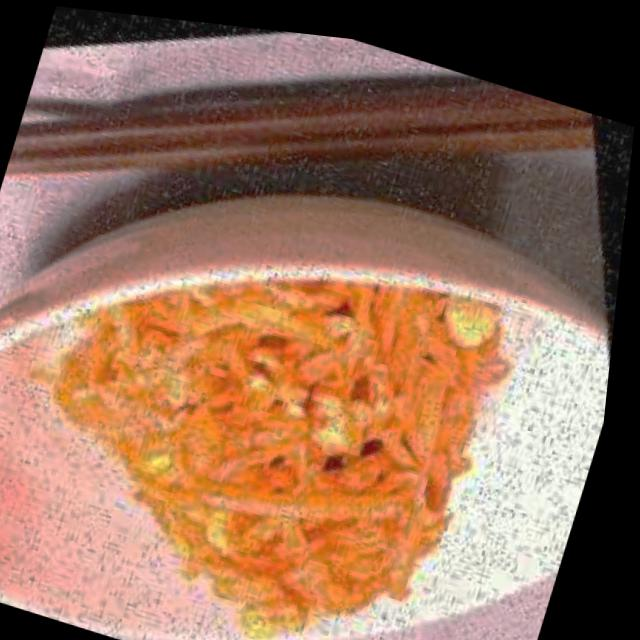carrot_eggs: (0, 172, 536, 640)
